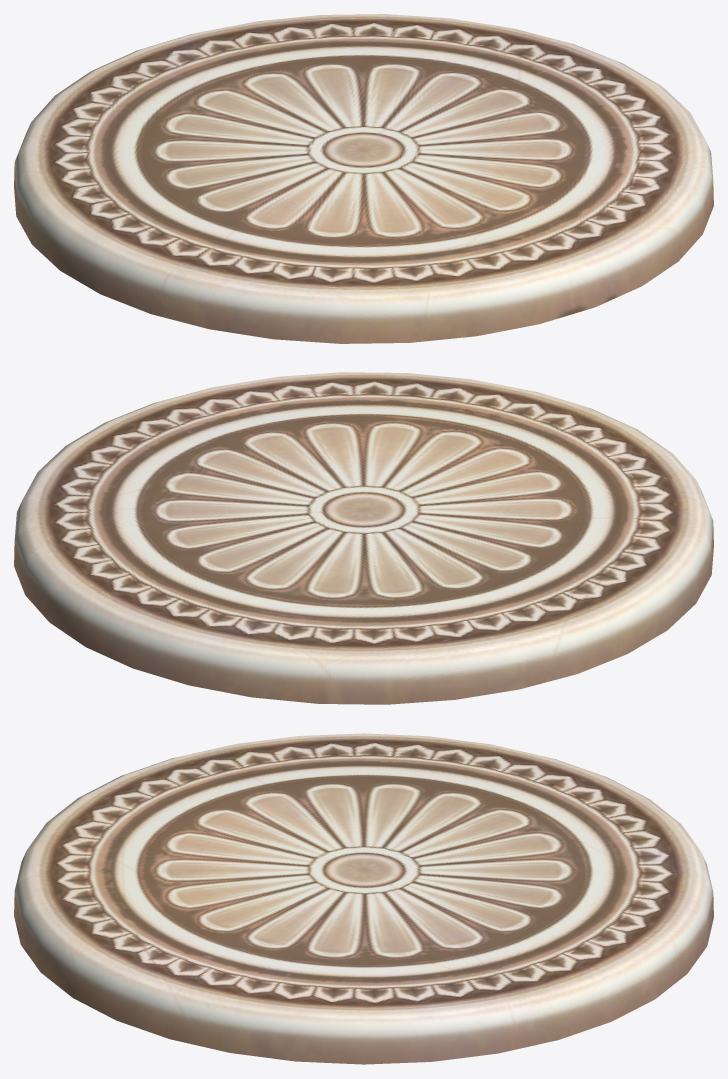
File: MSH_Deco_Ceiling_01.FBX
3 renders of one model, top to bottom at view 1: azimuth 30°, elevation 25°; view 2: azimuth 150°, elevation 25°; view 3: azimuth 270°, elevation 25°, orthographic.
Parts seen in each view (by area): view 1: MSH_Deco_Ceiling_01; view 2: MSH_Deco_Ceiling_01; view 3: MSH_Deco_Ceiling_01.
Part boxes in pixels (x1,y1,x2,y2): MSH_Deco_Ceiling_01: (14,14,713,343); MSH_Deco_Ceiling_01: (14,372,713,704); MSH_Deco_Ceiling_01: (14,733,713,1064).
Size of what is drawn, in the model's own units: 64.68 by 64.68 by 4.86.
